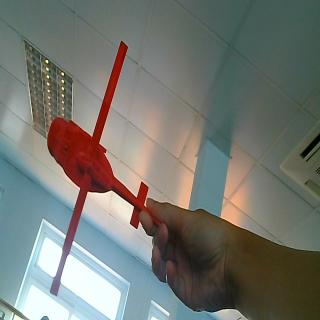Helicopter: (46, 39, 149, 300)
